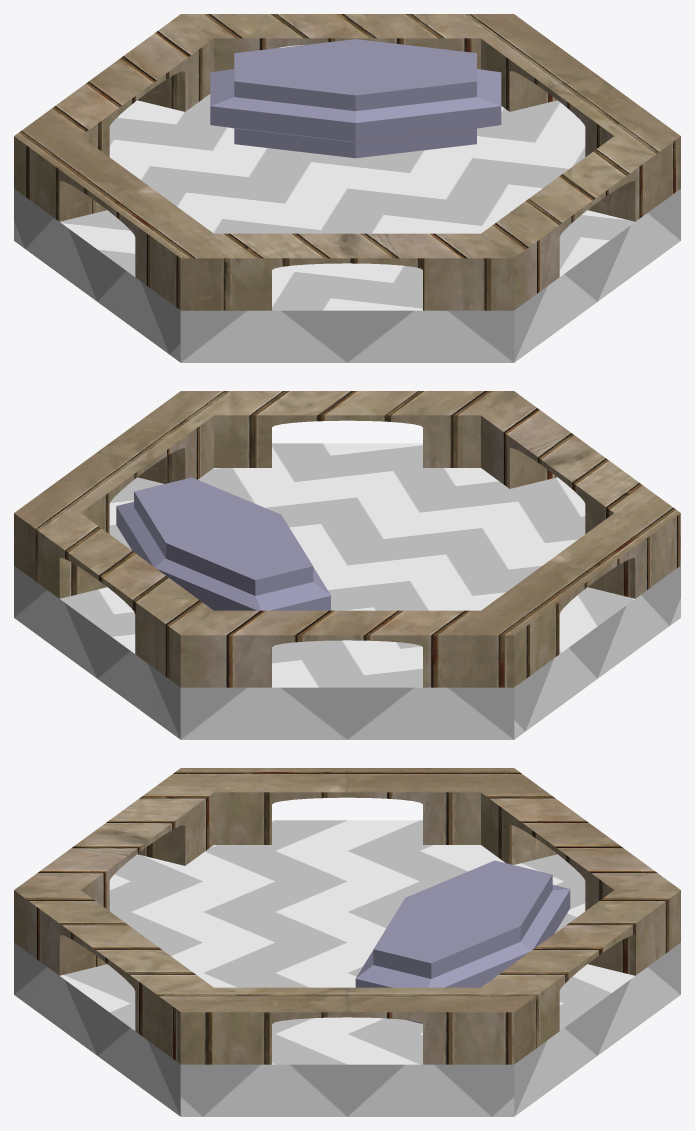
Rendered from HexagonBed.fbx.
The picture shows the model from 3 angles, top to bottom: view 1: azimuth 30°, elevation 25°; view 2: azimuth 150°, elevation 25°; view 3: azimuth 270°, elevation 25°; orthographic projection.
Visible parts, largest first — view 1: mergedBlocks; view 2: mergedBlocks; view 3: mergedBlocks.
Boxes of the visible parts, bbox=[...] form: mergedBlocks: bbox=[14, 14, 680, 362]; mergedBlocks: bbox=[14, 391, 680, 739]; mergedBlocks: bbox=[14, 768, 680, 1116].
Size of the model in its own units: 10 by 2.2 by 11.55.
Materials: 3 (2 with a texture image).
